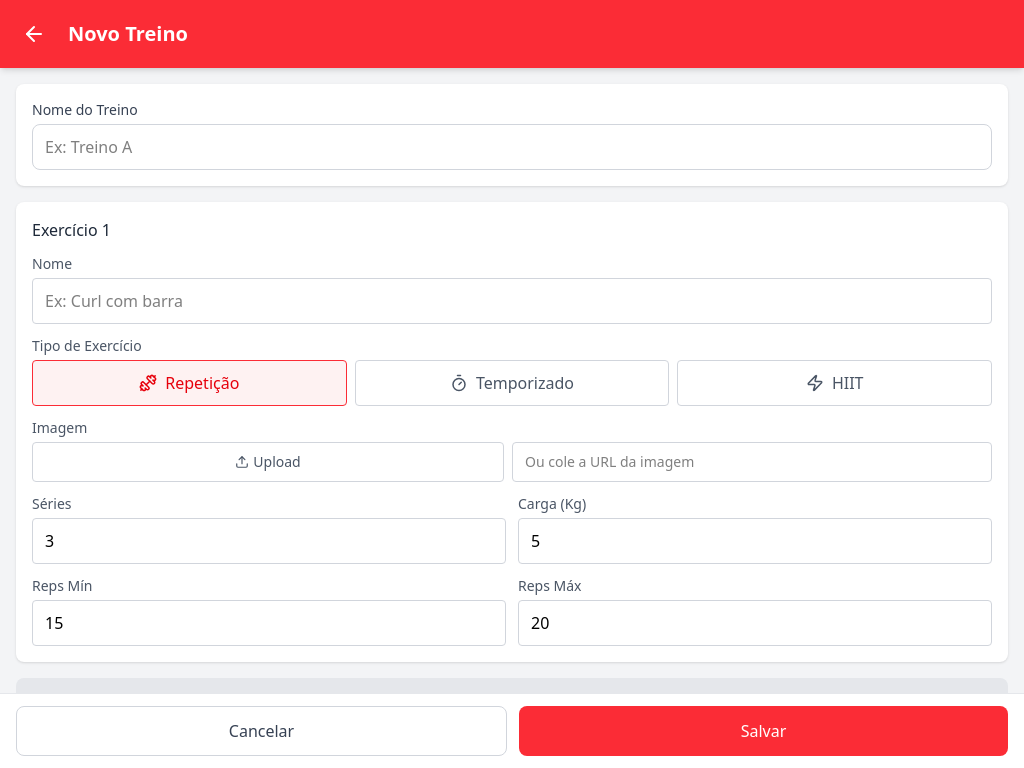
Test: WorkoutForm - Exercise Type › shows timed fields when selecting timed type
Click the button "Temporizado".
click(512, 383)  # box left=355, top=360, right=669, bottom=406
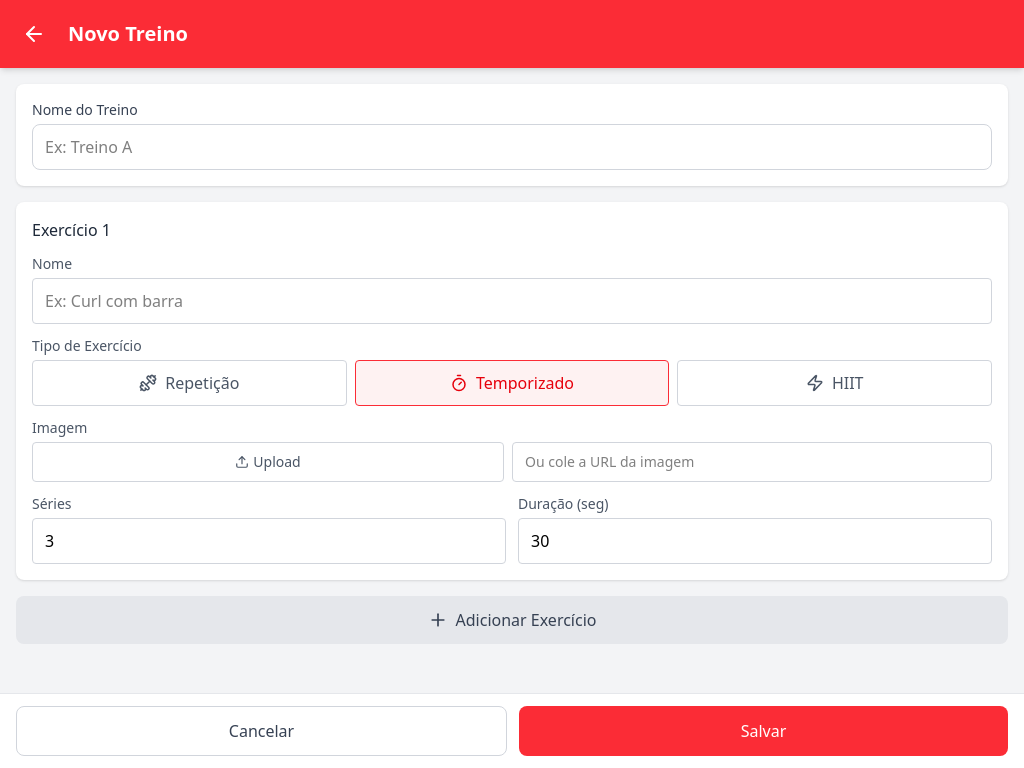
expect the text "Duração (seg)" is shown: met, box left=518, top=494, right=608, bottom=513
